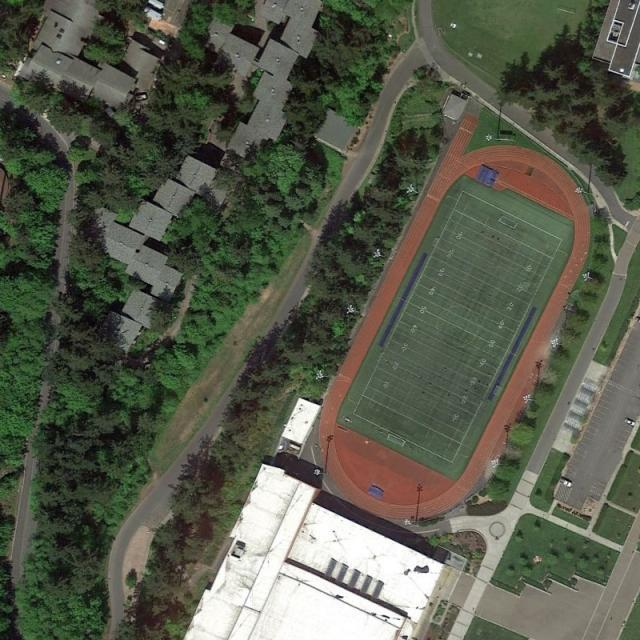vehicle: (559, 478, 572, 488), (624, 418, 635, 426), (278, 443, 284, 454)
